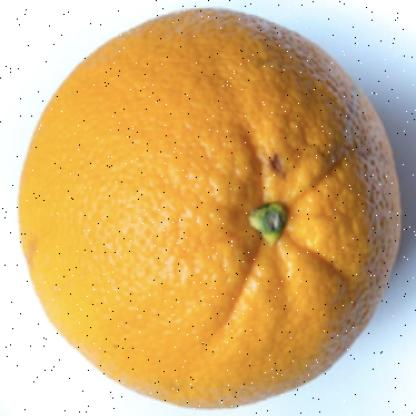fresh: (22, 12, 400, 412)
